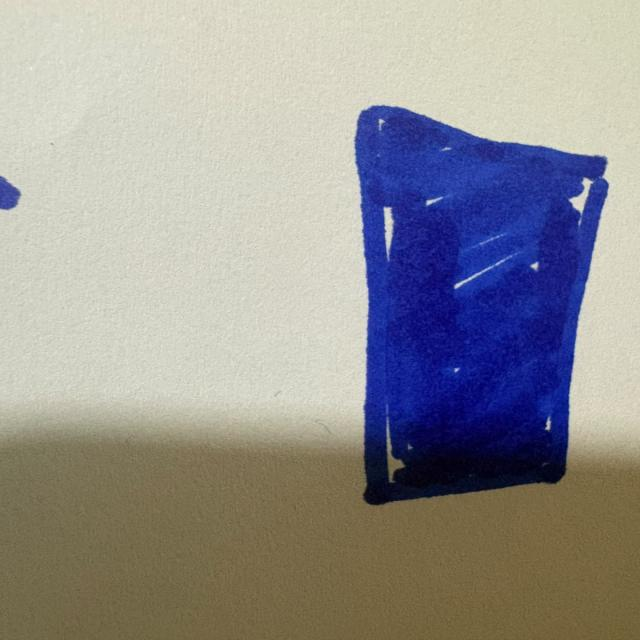Rectangle: (342, 100, 625, 514)
